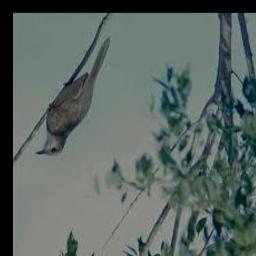Cuckoo: (35, 37, 110, 156)
